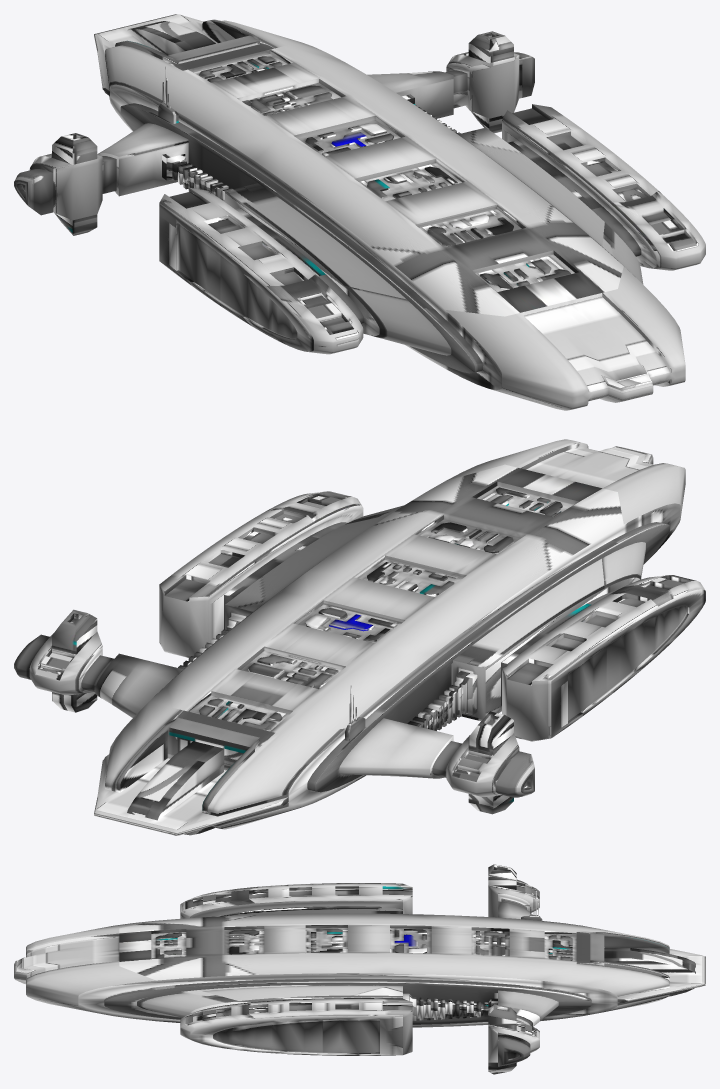
3 views of the same model, one above another, from view 1: azimuth 30°, elevation 25°; view 2: azimuth 150°, elevation 25°; view 3: azimuth 270°, elevation 25° (orthographic). The views are drawn at different scales.
Parts seen in each view (by area): view 1: Cylinder_hull_material, Cylinder_metallic_material; view 2: Cylinder_hull_material, Cylinder_metallic_material, Cylinder_glow_material; view 3: Cylinder_hull_material, Cylinder_metallic_material.
Part boxes in pixels (<box>): Cylinder_hull_material: <box>29,20,705,410</box>; Cylinder_metallic_material: <box>14,14,688,390</box>; Cylinder_hull_material: <box>29,439,705,829</box>; Cylinder_metallic_material: <box>14,446,686,835</box>; Cylinder_glow_material: <box>70,618,527,788</box>; Cylinder_hull_material: <box>14,880,669,1062</box>; Cylinder_metallic_material: <box>15,864,705,1074</box>.
Bounding box in the file's own units: 6.18 × 1.37 × 10.61.
Materials: 4 (4 with a texture image).
